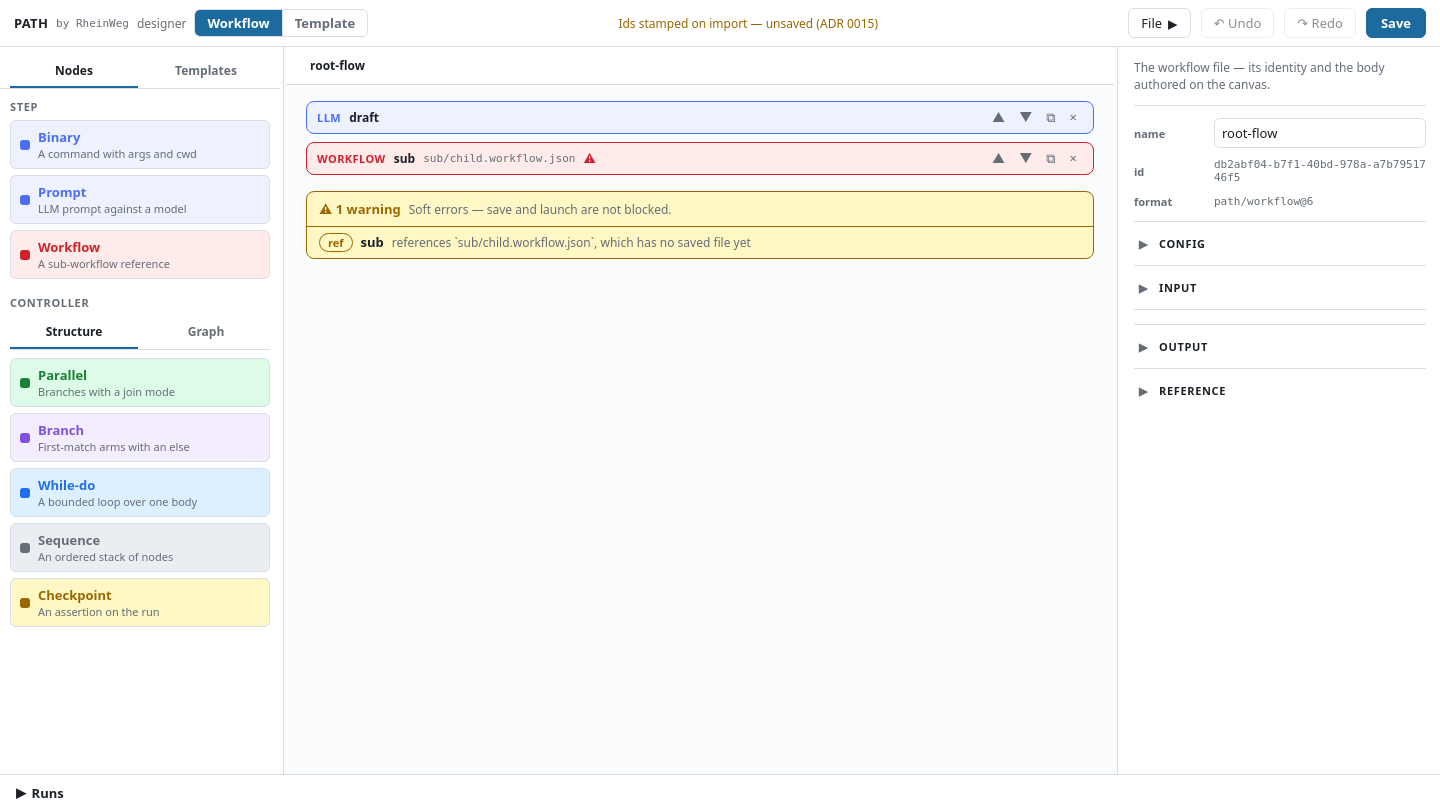
Scenario: Designer save through the write route › saves through PUT with the If-Match ETag and preserves every node id, clearing the dirty flag
This screenshot has width=1440, height=810.
Expected: the text "draft" is shown, [349, 109, 379, 126]
Expected: the message shows "stamped on import", [618, 15, 878, 32]
Click the button "Save": click(1396, 23) [1366, 8, 1426, 38]
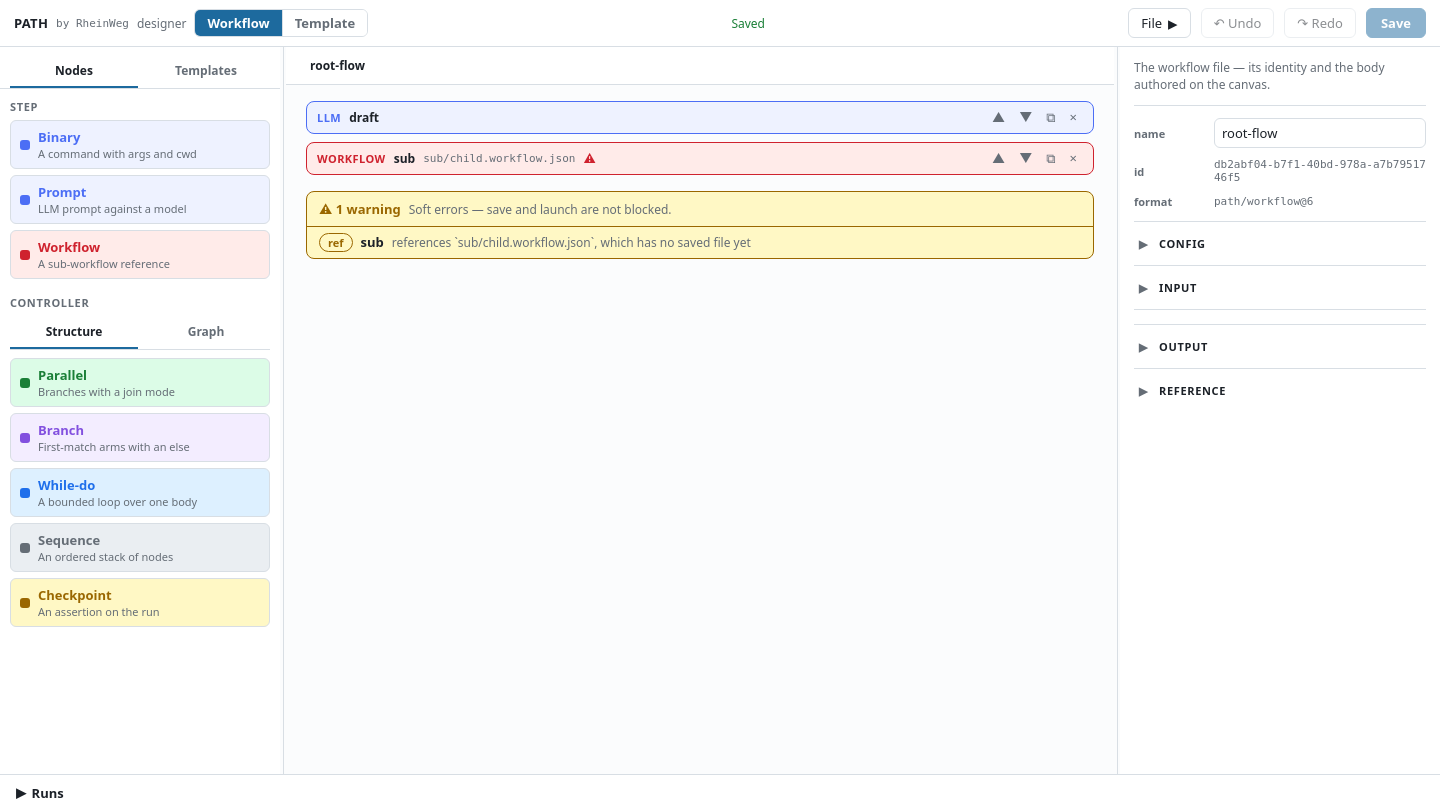
Expected: the text "Saved" is shown, [731, 15, 765, 32]
Result: the text "stamped on import" is gone
